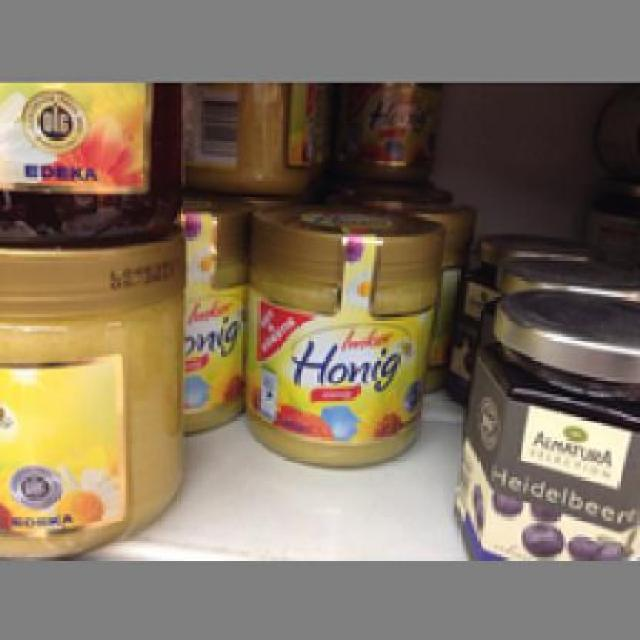Honey: (0, 241, 195, 558), (240, 200, 446, 469)
